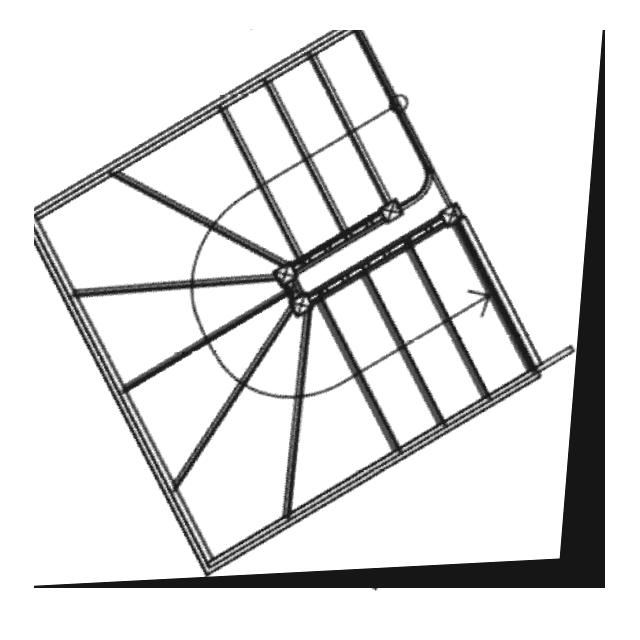stair: (34, 30, 605, 588)
